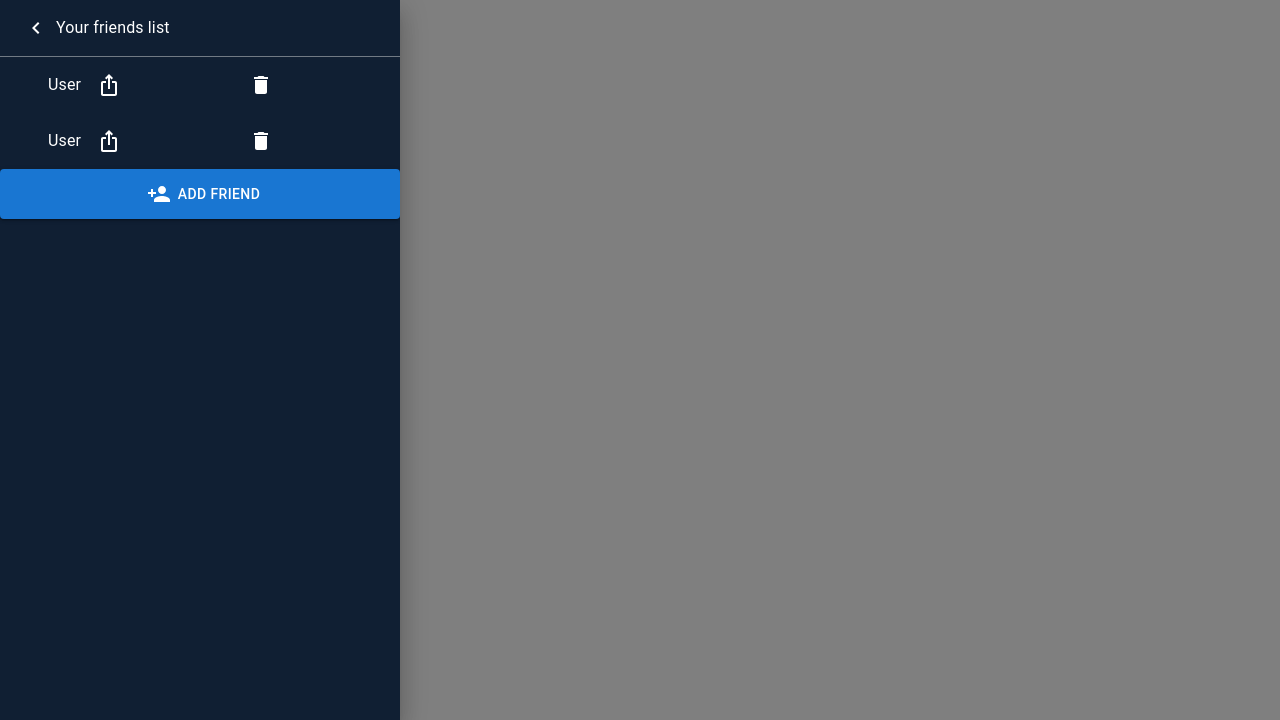
Test: check add friend entering a valid name
The width and height of the screenshot is (1280, 720).
Note: Buscamos el boton añadir y le damos
Click the button "Add friend". click: [200, 194]
box: x1=0 y1=169 x2=400 y2=219
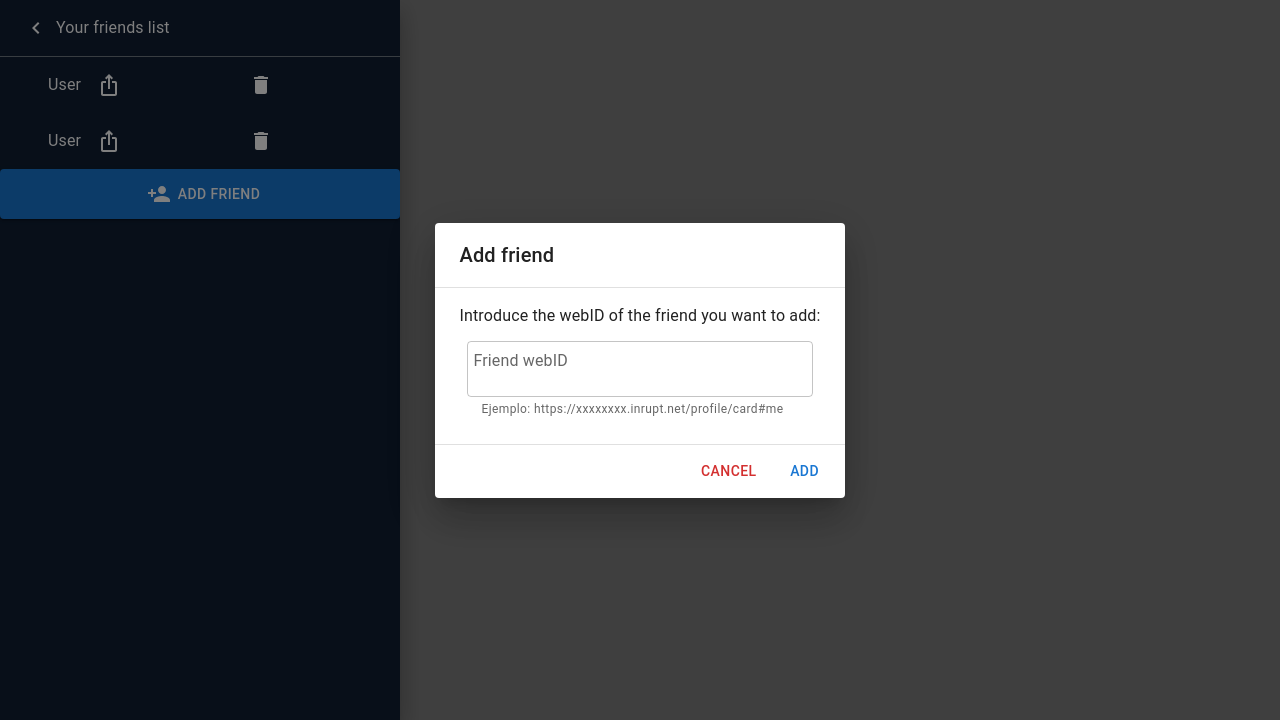
Note: Cambiamos el texto por un webID válido
Type "https://uo271477.inrupt.net/profile/card#me" into the field labelled "Friend webID". click: [640, 369]
box: x1=468 y1=341 x2=813 y2=397
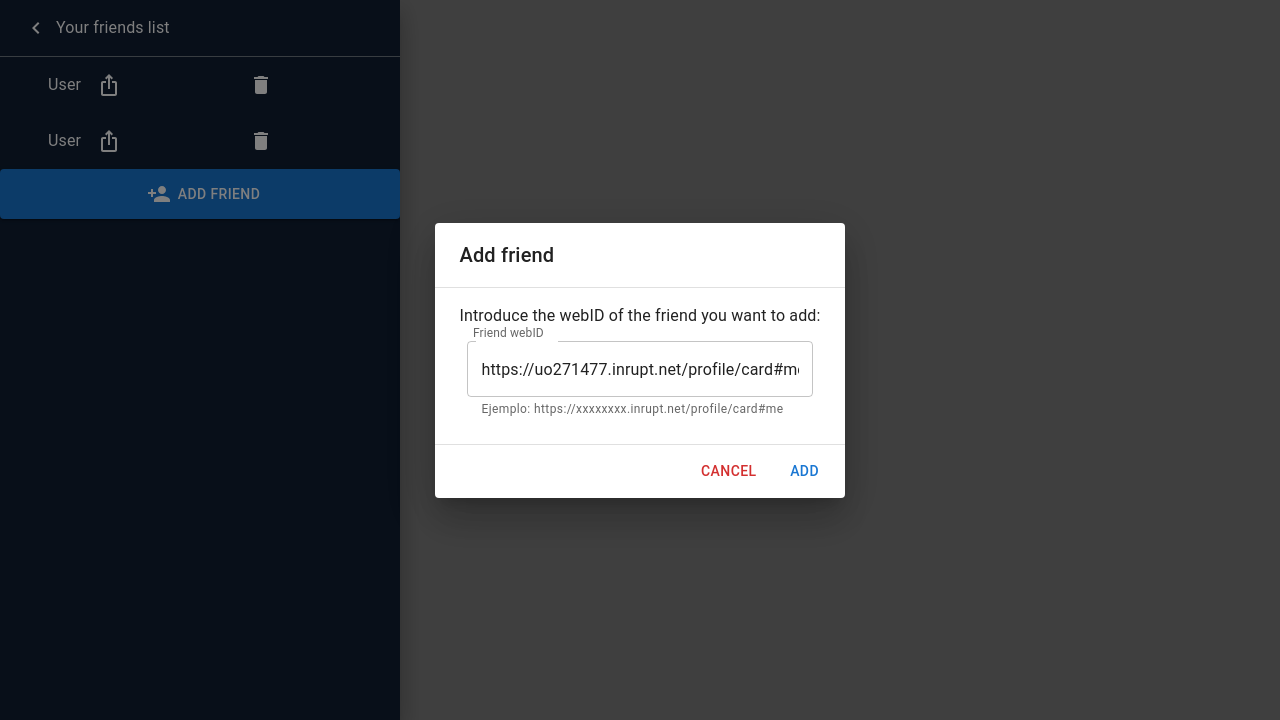
Note: Buscamos el boton añadir final y le damos
Click the button "Add". click: [804, 471]
box: x1=772 y1=453 x2=836 y2=490
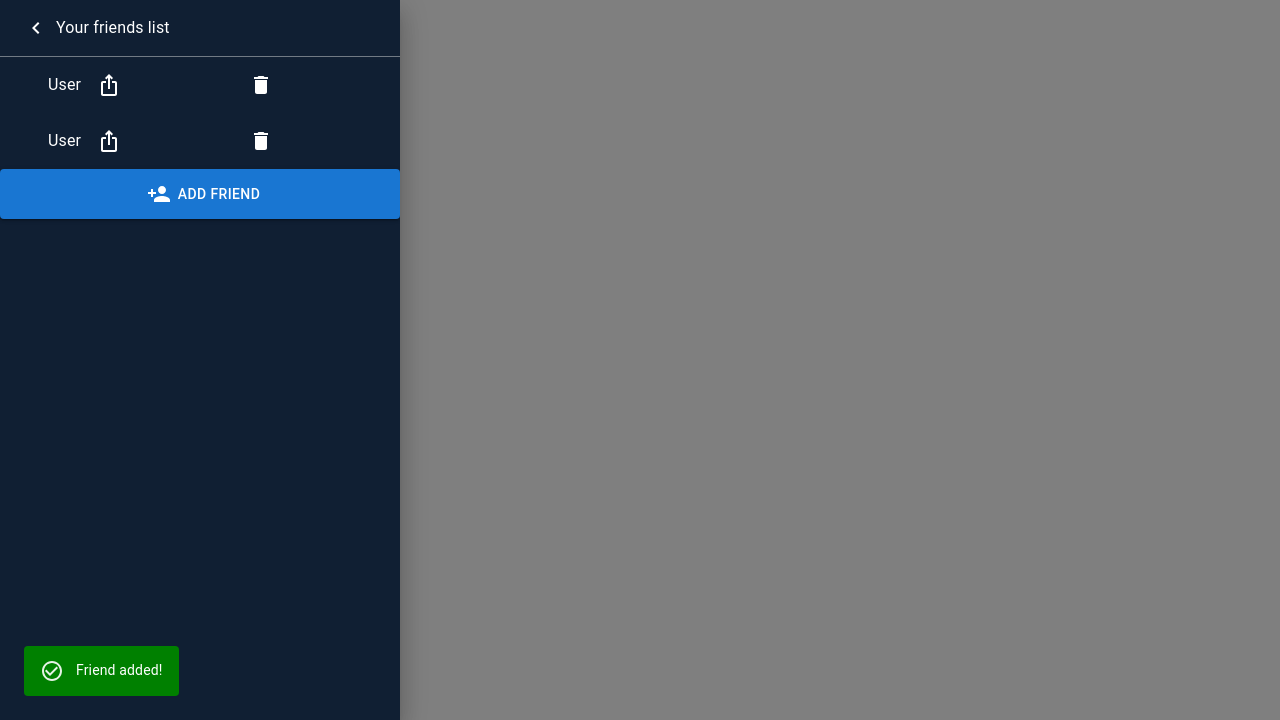
Result: the text "Friend added!" is shown at x1=76 y1=662 x2=162 y2=678
